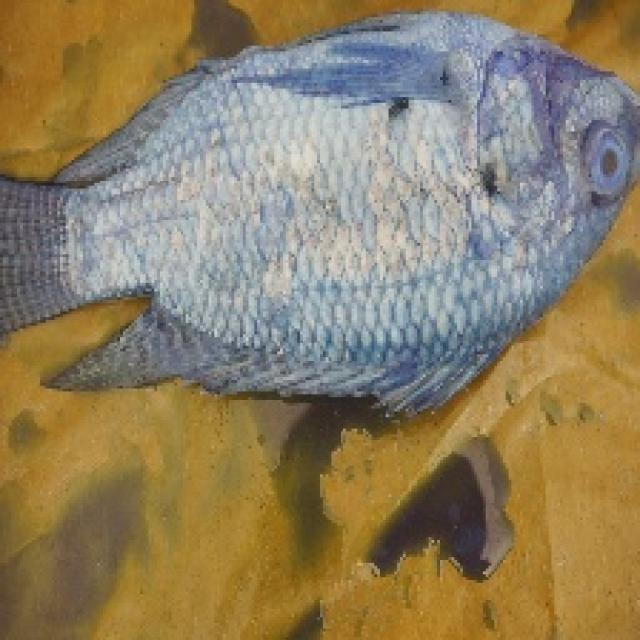Non-Fresh: (160, 28, 611, 386), (562, 97, 640, 207)
